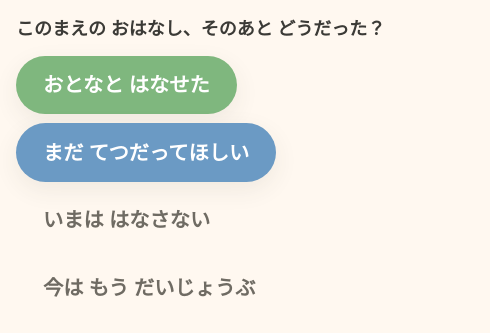
Test: shows the confirmed result for supported: この おはなしを こちらから きくのは おやすみするね。いつもの あそびに もどろう。はなしたくなったら、いつでも いってね。
Click the button "今は もう だいじょうぶ": {"x": 149, "y": 287} [16,258,282,316]
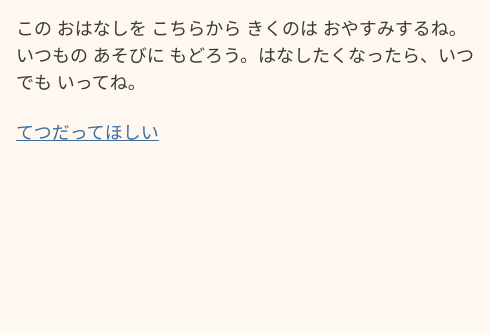
Check: the message reads "この おはなしを こちらから きくのは おやすみするね。いつもの あそびに もどろう。はなしたくなったら、いつでも いってね。", box [16,16,474,94]
